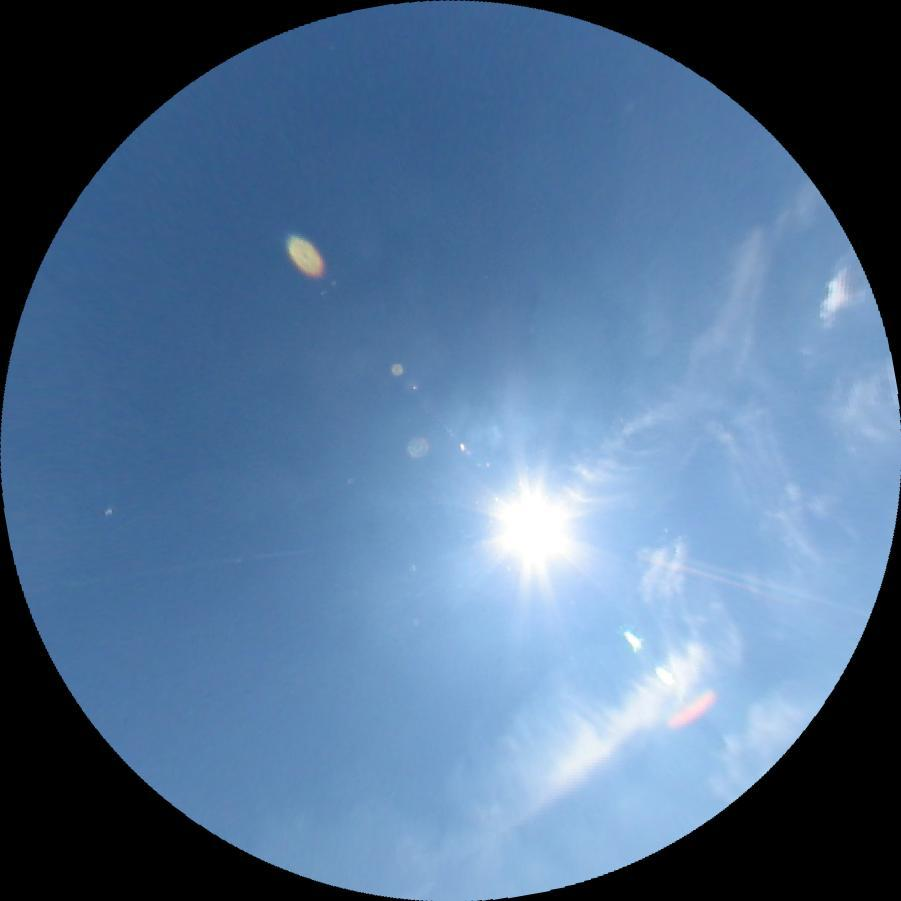contrail veryold: (539, 169, 873, 559)
parasite: (22, 541, 319, 597), (687, 557, 870, 616), (644, 552, 770, 597)
sun: (501, 496, 566, 559)
